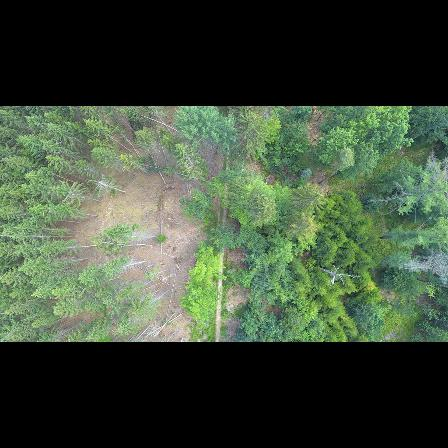Dead: (392, 248, 448, 285), (316, 262, 362, 287)
